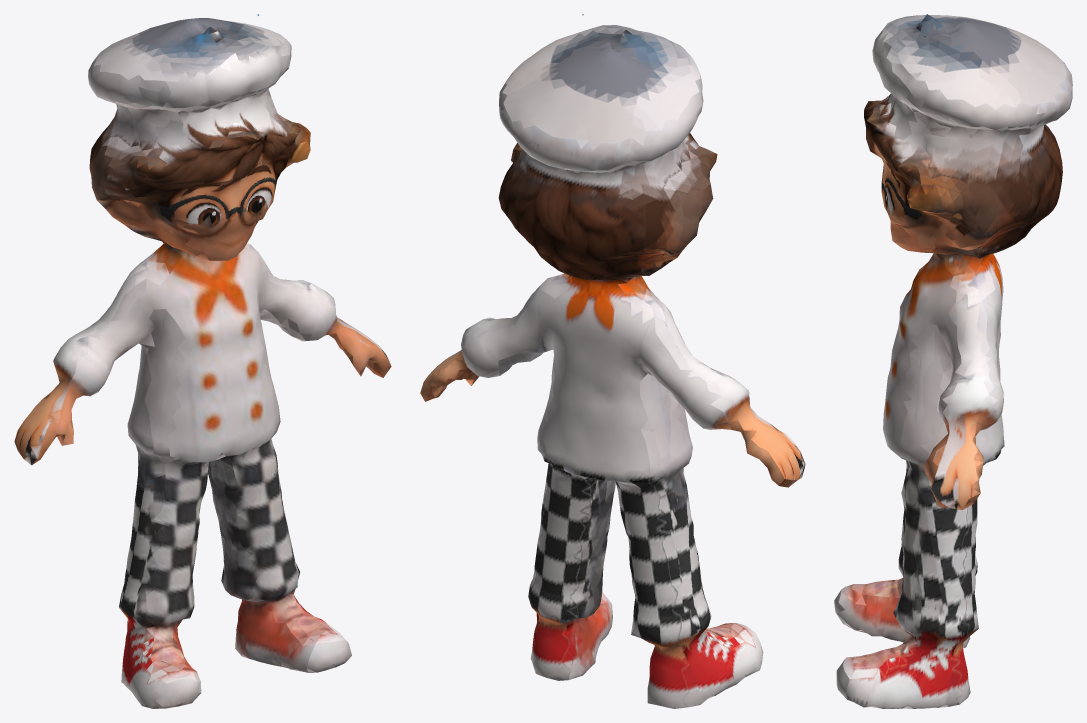
The model's file is chef-brainy-arms-toon-x5.glb.
3 views of the same model, side by side, from view 1: azimuth 30°, elevation 25°; view 2: azimuth 150°, elevation 25°; view 3: azimuth 270°, elevation 25° (orthographic).
Visible parts, largest first — view 1: world; view 2: world; view 3: world.
Part boxes in pixels (x1,y1,x2,y2): world: (14, 14, 391, 708); world: (420, 14, 805, 708); world: (834, 14, 1072, 708).
Size of the model in its own units: 2.74 by 4.68 by 1.54.
Materials: 1 (1 with a texture image).
